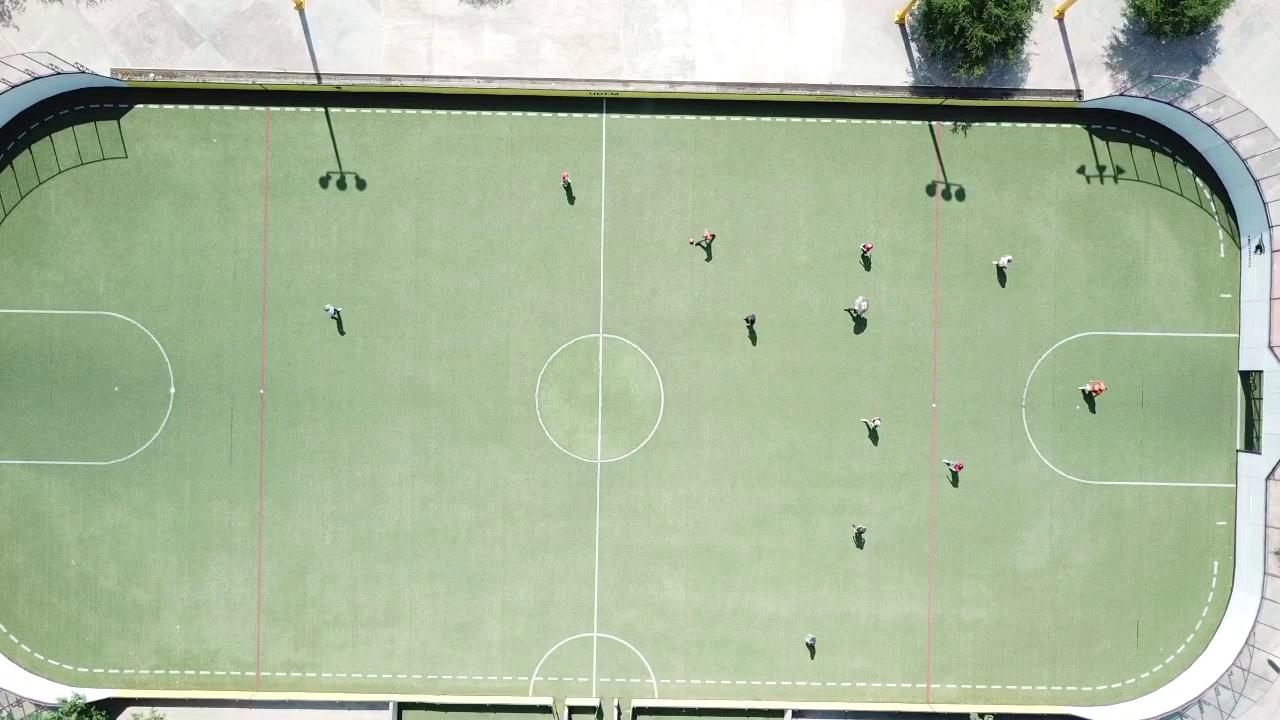ball: (688, 237, 694, 243)
player: (845, 296, 868, 318), (1079, 380, 1106, 396), (695, 229, 715, 249), (943, 459, 964, 474), (861, 417, 882, 430), (992, 255, 1012, 268), (324, 304, 341, 318), (860, 242, 874, 255), (804, 634, 815, 650), (744, 313, 755, 327), (561, 172, 570, 188), (855, 524, 866, 537)
